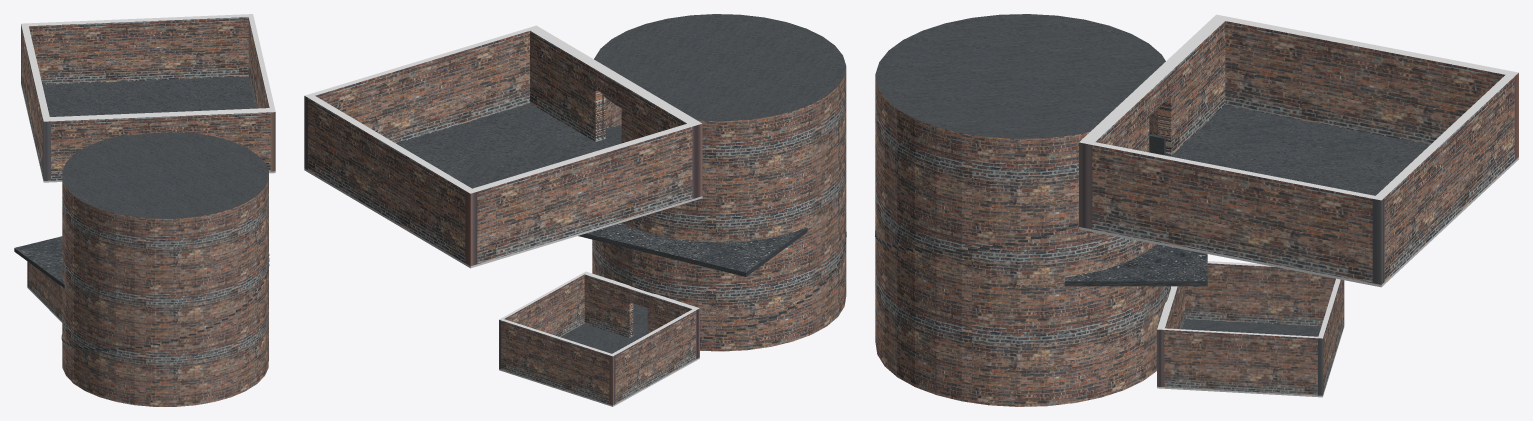
File: spiral.glb
The picture shows the model from 3 angles, left to right: view 1: azimuth 30°, elevation 25°; view 2: azimuth 150°, elevation 25°; view 3: azimuth 270°, elevation 25°; orthographic projection. The views are drawn at different scales.
Parts seen in each view (by area): view 1: Cylinder, Cube.003, Cube.004, Cube, Cube.001; view 2: Cube.003, Cylinder, Cube, Cube.004, Cube.001; view 3: Cylinder, Cube.003, Cube, Cube.004.
Part boxes in pixels (x1,y1,x2,y2): Cylinder: (62,132,268,406); Cube.003: (21,14,275,182); Cube.004: (14,236,64,288); Cube: (27,261,62,322); Cube.001: (61,254,269,351); Cube.003: (304,25,702,268); Cylinder: (592,14,846,351); Cube: (499,271,699,406); Cube.004: (578,223,807,276); Cube.001: (605,125,846,341); Cylinder: (875,14,1170,406); Cube.003: (1079,14,1518,287); Cube: (1157,261,1344,397); Cube.004: (1064,244,1207,286).
Size of the model in its own units: 102 by 65.97 by 131.
7 materials, 5 textured.
